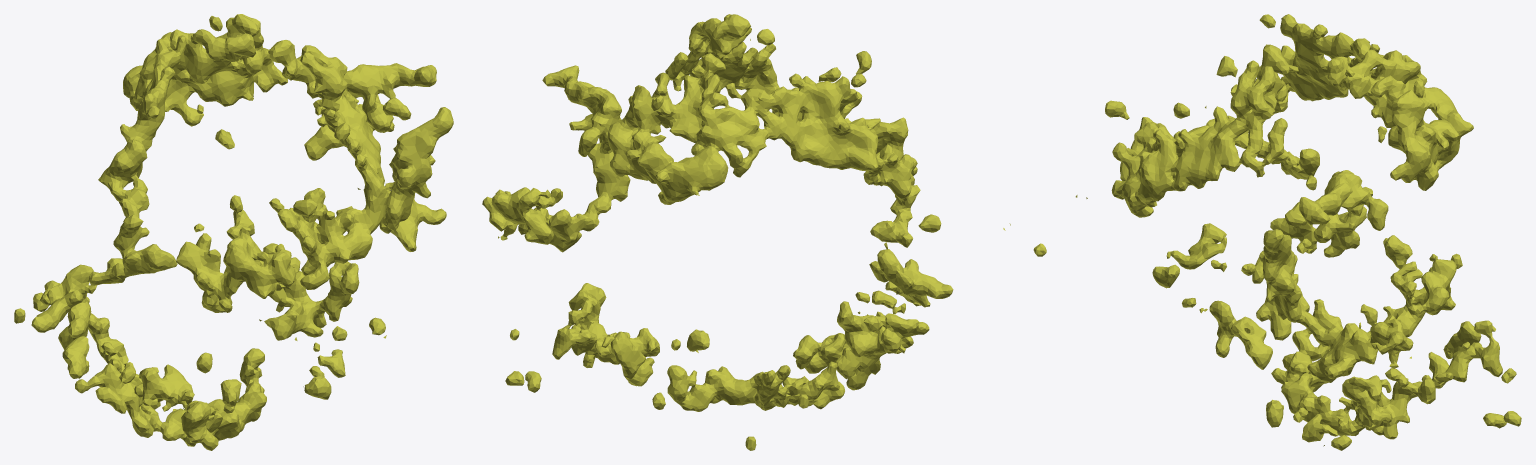
Rendered from green.obj.
3 renders of one model, left to right at view 1: azimuth 30°, elevation 25°; view 2: azimuth 150°, elevation 25°; view 3: azimuth 270°, elevation 25°, orthographic. The views are drawn at different scales.
Parts seen in each view (by area): view 1: newar.stl; view 2: newar.stl; view 3: newar.stl.
Boxes of the visible parts, left/top/right/bottom form: newar.stl: left=14, top=14, right=453, bottom=450; newar.stl: left=482, top=14, right=1046, bottom=450; newar.stl: left=1075, top=14, right=1521, bottom=450.
Bounding box in the file's own units: 84.04 × 67.06 × 69.5.
